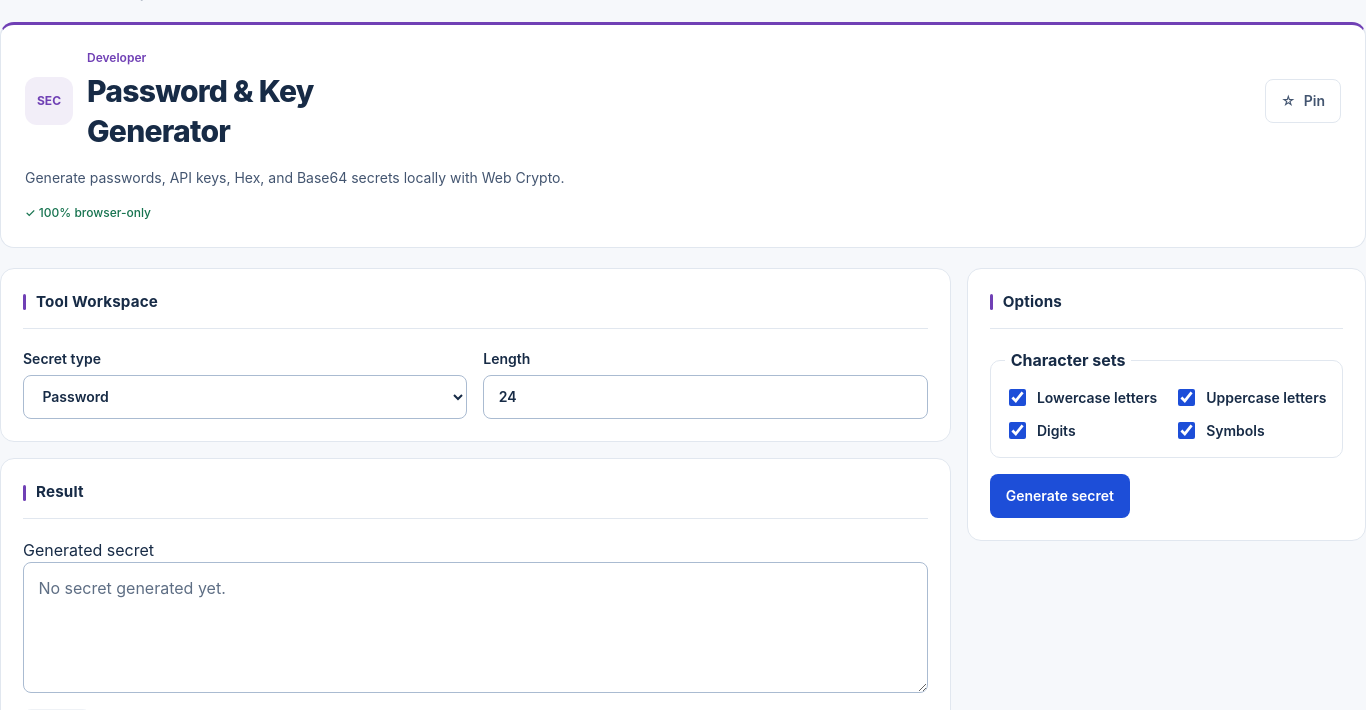
it: SecretGeneratorPage › generates a password and labels its entropy as an estimate
Click the button "Generate secret" at (1060, 496), box top-left (990, 474), bottom-right (1130, 518)
(page scrolled)
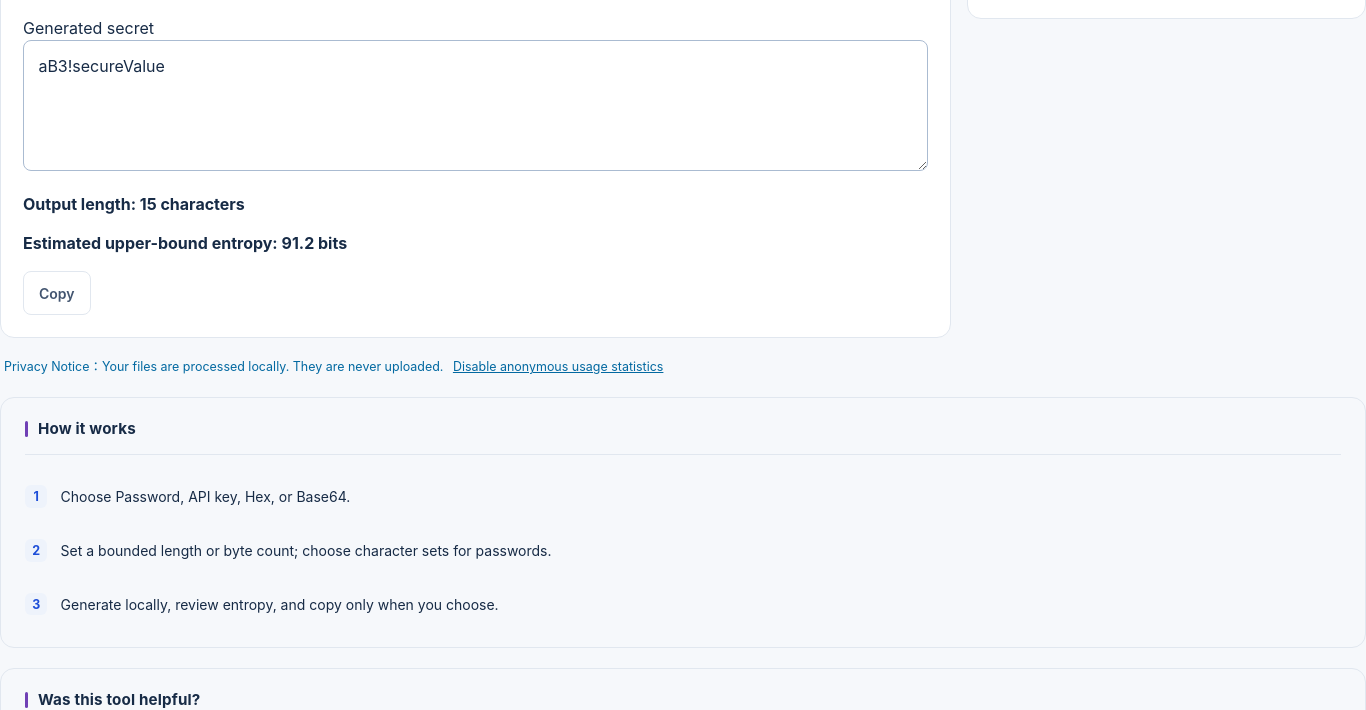
Expected: the text box labelled "Generated secret" holds "aB3!secureValue", top-left (23, 40), bottom-right (928, 171)
Expected: the text "Estimated upper-bound entropy: 91.2 bits" is shown, top-left (23, 233), bottom-right (347, 253)
Expected: the text "Output length: 15 characters" is shown, top-left (23, 194), bottom-right (245, 214)
